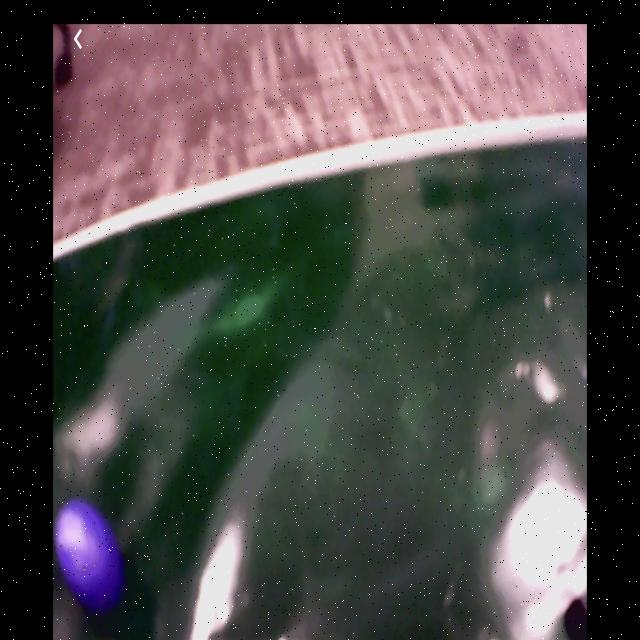ball: (56, 498, 119, 606)
